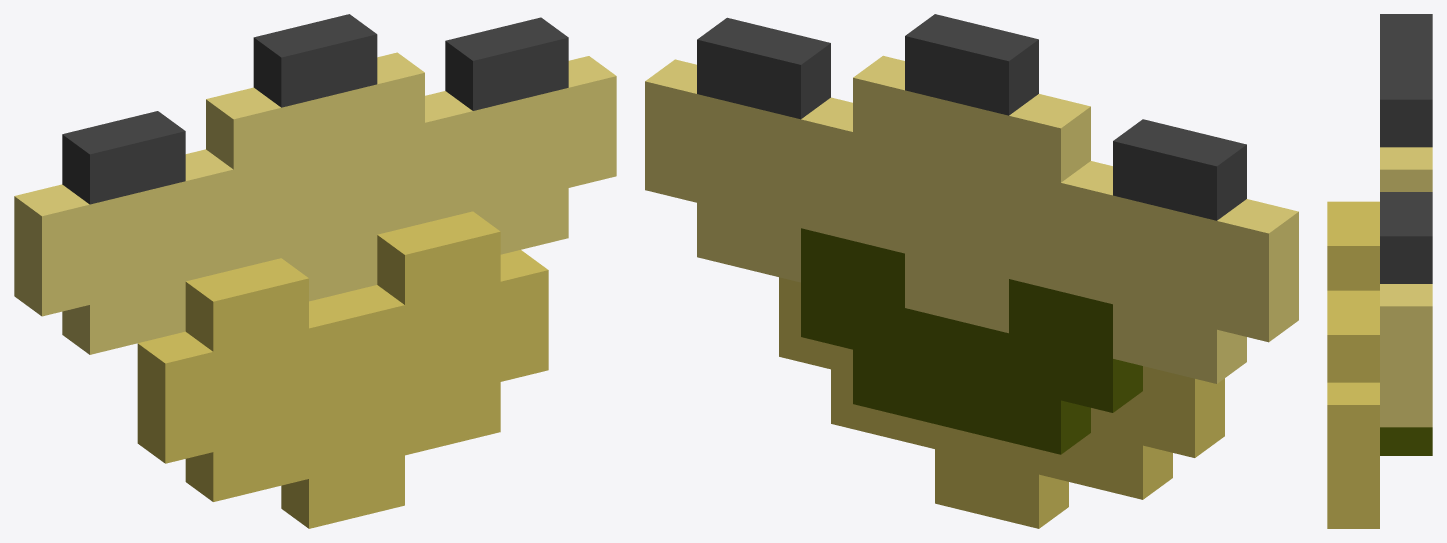
File: paw.obj
3 renders of one model, left to right at view 1: azimuth 30°, elevation 25°; view 2: azimuth 150°, elevation 25°; view 3: azimuth 270°, elevation 25°, orthographic. The views are drawn at different scales.
Parts seen in each view (by area): view 1: paw; view 2: paw; view 3: paw.
Part boxes in pixels (x1,y1,x2,y2): paw: (14, 14, 616, 528); paw: (645, 14, 1298, 528); paw: (1327, 14, 1432, 528).
Size of the model in its own units: 12 by 9 by 2.
Materials: 1 (1 with a texture image).
